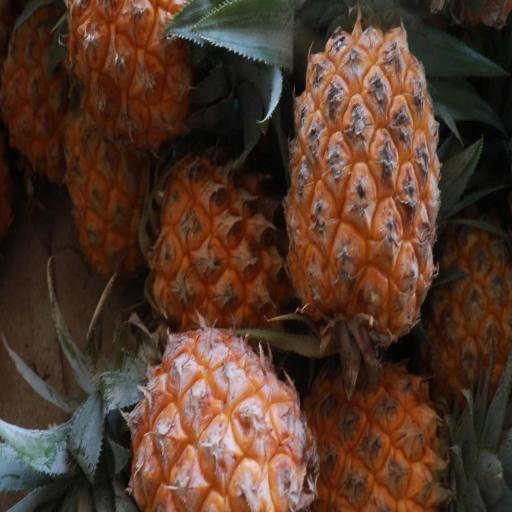Pineapple - v8 v1: (280, 7, 443, 371), (101, 322, 318, 512), (146, 124, 302, 342), (60, 0, 260, 166), (290, 350, 461, 511), (407, 180, 512, 404)
